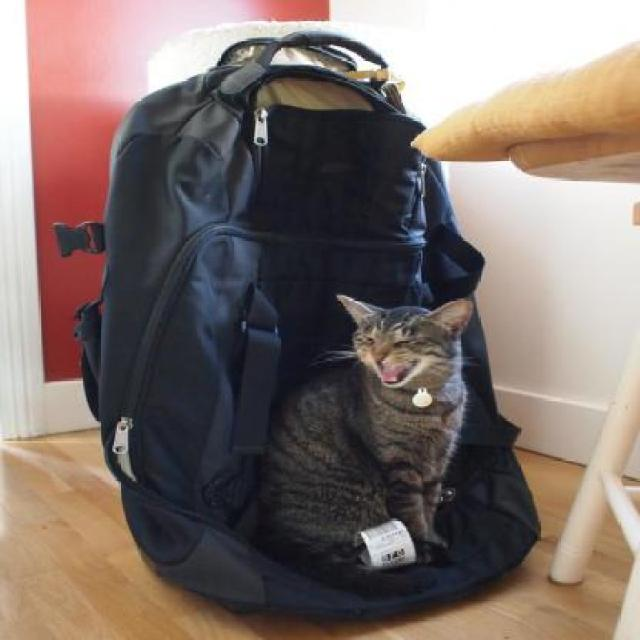backpack: (51, 29, 549, 629)
